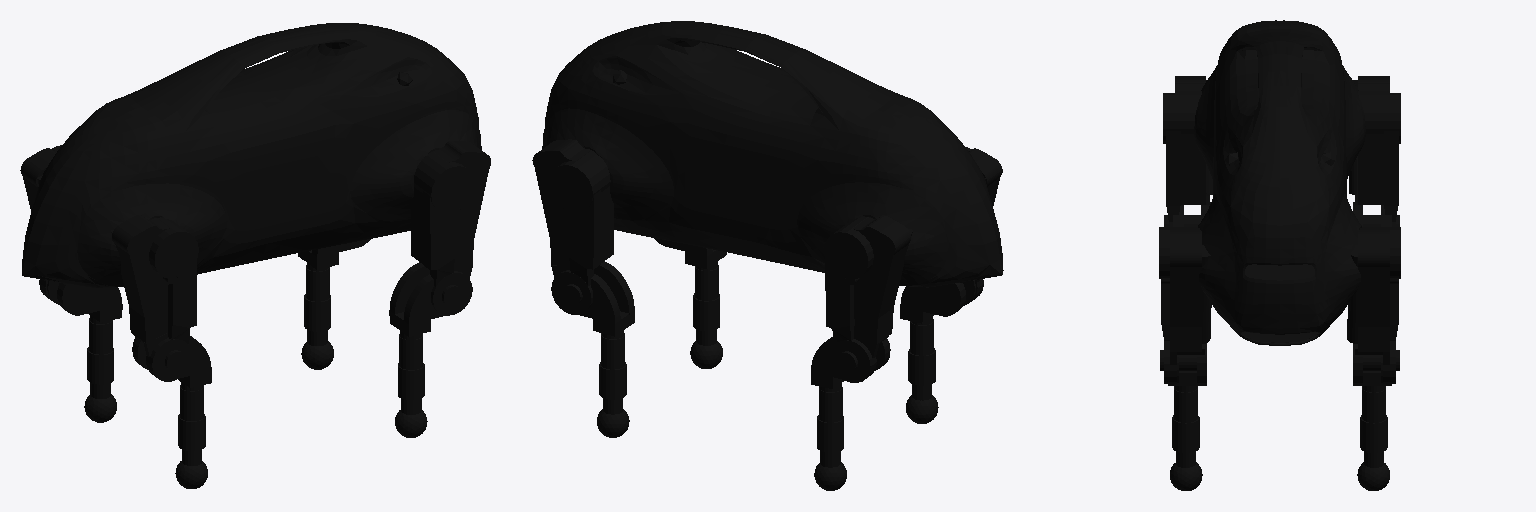
URDF robot description (robot):
<robot xmlns:xsi="http://www.w3.org/2001/XMLSchema-instance"
 xsi:schemaLocation="http://drake.mit.edu drake-distro/drake/doc/drakeURDF.xsd"
 xmlns="http://drake.mit.edu">
  
  <!-- converted from https://svn.csail.mit.edu/littledog/trunk/simulation/little_dog.sd -->

  <link name="body">
    <inertial>
      <mass value="1.800000" />
      <inertia ixx="0.001625" ixy="0" ixz="0" iyy="0.009178" iyz="0" izz="0.008794" />
    </inertial>
    <visual>
      <geometry>
        <mesh filename="meshes/body.obj" scale=".0254 .0254 .0254" />
      </geometry>
      <material name="black">
      	<color rgba="0.1 0.1 0.1 1" />
      </material>
    </visual>
  </link>

  <link name="front_left_hip">
    <inertial>
      <origin xyz="0.000000 0.002900 0.000000" rpy="0 0 0" />
      <mass value="0.062300" />
      <inertia ixx="0.000004" ixy="0" ixz="0" iyy="0.000015" iyz="0" izz="0.000015" />
    </inertial>
    <visual>
      <origin xyz="0 0 0" rpy="0 0 0" />
<!--      <geometry>
        <mesh filename="meshes/front_left_hip.obj" scale=".0254 .0254 .0254"/>
      </geometry>
-->
      <material name="black" />
    </visual>
  </link>

  <joint name="front_left_hip_roll" type="revolute">
    <parent link="body" />
    <child link="front_left_hip" />
    <origin xyz="0.101000 0.036250 0.000000" />
    <axis xyz="1 0 0" />
    <limit lower="-.6" upper=".6"/>
  </joint>
  
  <transmission type="SimpleTransmission">
    <joint name="front_left_hip_roll"/>
    <actuator name="front_left_hip_roll"/>
  </transmission>
  
  <link name="front_left_upper_leg">
    <inertial>
      <origin xyz="0.000000 0.000000 -0.016600" rpy="0 0 0" />
      <mass value="0.127900" />
      <inertia ixx="0.000082" ixy="0" ixz="0" iyy="0.000089" iyz="0" izz="0.000015" />
    </inertial>
    <visual>
      <origin xyz="0 0 0" rpy="0 0 0" />
      <geometry>
        <mesh filename="meshes/front_left_upper.obj" scale=".0254 .0254 .0254"/>
      </geometry>
      <material name="black" />
    </visual>
  </link>
  
  <joint name="front_left_hip_pitch" type="revolute">
    <parent link="front_left_hip" />
    <child link="front_left_upper_leg" />
    <origin xyz="0 0.0236 0" />
    <axis xyz="0 1 0" />
    <limit lower="-3.5" upper="2.4"/>
  </joint>  

  <transmission type="SimpleTransmission">
    <joint name="front_left_hip_pitch"/>
    <actuator name="front_left_hip_pitch"/>
  </transmission>
  
  <link name="front_left_lower_leg"> 
    <inertial>
      <origin xyz="0.000000 0.000000 -0.020200" rpy="0 0 0" />
      <mass value="0.046400" />
      <inertia ixx="0.000038" ixy="0" ixz="0" iyy="0.000035" iyz="0" izz="0.000004" />
    </inertial>
    <visual>
      <origin xyz="0 0 0" rpy="0 0 0" />
      <geometry>
        <mesh filename="meshes/front_left_lower.obj" scale="0.0254 0.0254 0.0254"/>
      </geometry>
      <material name="black" />
    </visual>
    <collision group="left_lower_legs">
      <origin xyz="-0.0265 0 -0.048" /> <!-- note this is approximate -->
      <geometry>
        <capsule radius="0.012" length="0.09" />
      </geometry>
    </collision>
    <collision group="feet">
      <origin xyz="-0.0265 0 -0.0985"/>
      <geometry>
        <sphere radius="0.0103"/>
      </geometry>
    </collision>
  </link>
  
  <joint name="front_left_knee" type="revolute">
    <parent link="front_left_upper_leg" />
    <child link="front_left_lower_leg" />
    <origin xyz="0 0 -0.0751" />
    <axis xyz="0 1 0" />
    <limit lower="-3.1" upper="1.0"/>
  </joint>

  <transmission type="SimpleTransmission">
    <joint name="front_left_knee"/>
    <actuator name="front_left_knee"/>
  </transmission>

  <frame link="front_left_lower_leg" name="front_left_foot_center" xyz="-0.0265 0 -0.0985"/>

  <link name="front_right_hip">
    <inertial>
      <origin xyz="0.000000 -0.002900 0.000000" rpy="0 0 0" />
      <mass value="0.062300" />
      <inertia ixx="0.000004" ixy="0" ixz="0" iyy="0.000015" iyz="0" izz="0.000015" />
    </inertial>
    <visual>
      <origin xyz="0 0 0" rpy="0 0 0" />
<!--      <geometry>
        <mesh filename="meshes/front_right_hip.obj" scale="0.0254 0.0254 0.0254"/>
      </geometry> -->
      <material name="black" />
    </visual>
  </link>

  <joint name="front_right_hip_roll" type="revolute">
    <parent link="body" />
    <child link="front_right_hip" />
    <origin xyz="0.101000 -0.036250 0.000000" />
    <axis xyz="1 0 0" />
    <limit lower="-.6" upper=".6"/>
  </joint>
  
  <transmission type="SimpleTransmission">
    <joint name="front_right_hip_roll"/>
    <actuator name="front_right_hip_roll"/>
  </transmission>

  <link name="front_right_upper_leg">
    <inertial>
      <origin xyz="0.000000 0.000000 -0.016600" rpy="0 0 0" />
      <mass value="0.127900" />
      <inertia ixx="0.000082" ixy="0" ixz="0" iyy="0.000089" iyz="0" izz="0.000015" />
    </inertial>
    <visual>
      <origin xyz="0 0 0" rpy="0 0 0" />
      <geometry>
        <mesh filename="meshes/front_right_upper.obj" scale="0.0254 0.0254 0.0254"/>
      </geometry>
      <material name="black"/>
    </visual>
  </link>

  <joint name="front_right_hip_pitch" type="revolute">
    <parent link="front_right_hip" />
    <child link="front_right_upper_leg" />
    <origin xyz="0 -0.0236 0" />
    <axis xyz="0 1 0" />
    <limit lower="-3.5" upper="2.4"/>
  </joint>
  
  <transmission type="SimpleTransmission">
    <joint name="front_right_hip_pitch"/>
    <actuator name="front_right_hip_pitch"/>
  </transmission>
  
  <link name="front_right_lower_leg"> 
    <inertial>
      <origin xyz="0.000000 0.000000 -0.020200" rpy="0 0 0" />
      <mass value="0.046400" />
      <inertia ixx="0.000038" ixy="0" ixz="0" iyy="0.000035" iyz="0" izz="0.000004" />
    </inertial>
    <visual>
      <origin xyz="0 0 0" rpy="0 0 0" />
      <geometry>
        <mesh filename="meshes/front_right_lower.obj" scale="0.0254 0.0254 0.0254"/>
      </geometry>
      <material name="black"/>
    </visual>
    <collision group="right_lower_legs">
      <origin xyz="-0.0265 0 -0.048" /> <!-- note this is approximate -->
      <geometry>
        <capsule radius="0.012" length="0.09" />
      </geometry>
    </collision>
    <collision group="feet">
      <origin xyz="-0.0265 0 -0.0985"/>
      <geometry>
        <sphere radius="0.0103"/>
      </geometry>
    </collision>
  </link>

  <joint name="front_right_knee" type="revolute">
    <parent link="front_right_upper_leg" />
    <child link="front_right_lower_leg" />
    <origin xyz="0 0 -0.0751" />
    <axis xyz="0 1 0" />
    <limit lower="-3.1" upper="1.0"/>
  </joint>
  
  <transmission type="SimpleTransmission">
    <joint name="front_right_knee"/>
    <actuator name="front_right_knee"/>
  </transmission>
  
  <frame link="front_right_lower_leg" name="front_right_foot_center" xyz="-0.0265 0 -0.0985"/>
  
  <link name="back_left_hip">
    <inertial>
      <origin xyz="0.000000 0.002900 0.000000" rpy="0 0 0" />
      <mass value="0.062300" />
      <inertia ixx="0.000004" ixy="0" ixz="0" iyy="0.000015" iyz="0" izz="0.000015" />
    </inertial>
    <visual>
      <origin xyz="0 0 0" rpy="0 0 0" />
<!--      <geometry>
        <mesh filename="meshes/back_left_hip.obj" scale="0.0254 0.0254 0.0254"/>
      </geometry>      -->
      <material name="black" />
    </visual>
  </link>

  <joint name="back_left_hip_roll" type="revolute">
    <parent link="body" />
    <child link="back_left_hip" />
    <origin xyz="-0.101000 0.036250 0.000000" />
    <axis xyz="1 0 0" />
    <limit lower="-.6" upper=".6"/>
  </joint>
  
  <transmission type="SimpleTransmission">
    <joint name="back_left_hip_roll"/>
    <actuator name="back_left_hip_roll"/>
  </transmission>
  
  <link name="back_left_upper_leg">
    <inertial>
      <origin xyz="0.000000 0.000000 -0.016600" rpy="0 0 0" />
      <mass value="0.127900" />
      <inertia ixx="0.000082" ixy="0" ixz="0" iyy="0.000089" iyz="0" izz="0.000015" />
    </inertial>
    <visual>
      <origin xyz="0 0 0" rpy="0 0 0" />
      <geometry>
        <mesh filename="meshes/back_left_upper.obj" scale="0.0254 0.0254 0.0254"/>
      </geometry>
      <material name="black" />
    </visual>
  </link>

  <joint name="back_left_hip_pitch" type="revolute">
    <parent link="back_left_hip" />
    <child link="back_left_upper_leg" />
    <origin xyz="0 0.0236 0" />
    <axis xyz="0 1 0" />
    <limit lower="-2.4" upper="3.5"/>
  </joint>
  
  <transmission type="SimpleTransmission">
    <joint name="back_left_hip_pitch"/>
    <actuator name="back_left_hip_pitch"/>
  </transmission>
  
  <link name="back_left_lower_leg"> 
    <inertial>
      <origin xyz="0.000000 0.000000 -0.020200" rpy="0 0 0" />
      <mass value="0.046400" />
      <inertia ixx="0.000038" ixy="0" ixz="0" iyy="0.000035" iyz="0" izz="0.000004" />
    </inertial>
    <visual>
      <origin xyz="0 0 0" rpy="0 0 0" />
      <geometry>
        <mesh filename="meshes/back_left_lower.obj" scale="0.0254 0.0254 0.0254"/>
      </geometry>
      <material name="black" />
    </visual>
    <collision group="left_lower_legs">
      <origin xyz="0.0265 0 -0.048" /> <!-- note this is approximate -->
      <geometry>
        <capsule radius="0.012" length="0.09" />
      </geometry>
    </collision>
    <collision group="feet">
      <origin xyz="0.0265 0 -0.0985"/>
      <geometry>
        <sphere radius="0.0103"/>
      </geometry>
    </collision>
  </link>

  <joint name="back_left_knee" type="revolute">
    <parent link="back_left_upper_leg" />
    <child link="back_left_lower_leg" />
    <origin xyz="0 0 -0.0751" />
    <axis xyz="0 1 0" />
    <limit lower="-1.0" upper="3.1"/>
  </joint>

  <transmission type="SimpleTransmission">
    <joint name="back_left_knee"/>
    <actuator name="back_left_knee"/>
  </transmission>
  
  <frame link="back_left_lower_leg" name="back_left_foot_center" xyz="0.0265 0 -0.0985"/>
  
  <link name="back_right_hip">
    <inertial>
      <origin xyz="0.000000 -0.002900 0.000000" rpy="0 0 0" />
      <mass value="0.062300" />
      <inertia ixx="0.000004" ixy="0" ixz="0" iyy="0.000015" iyz="0" izz="0.000015" />
    </inertial>
    <visual>
      <origin xyz="0 0 0" rpy="0 0 0" />
<!--      <geometry>
        <mesh filename="meshes/back_right_hip.obj" scale="0.0254 0.0254 0.0254"/>
      </geometry>-->
      <material name="black" />
    </visual>
  </link>

  <joint name="back_right_hip_roll" type="revolute">
    <parent link="body" />
    <child link="back_right_hip" />
    <origin xyz="-0.101000 -0.036250 0.000000" />
    <axis xyz="1 0 0" />
    <limit lower="-.6" upper=".6"/>
  </joint>
  
  <transmission type="SimpleTransmission">
    <joint name="back_right_hip_roll"/>
    <actuator name="back_right_hip_roll"/>
  </transmission>
  
  <link name="back_right_upper_leg">
    <inertial>
      <origin xyz="0.000000 0.000000 -0.016600" rpy="0 0 0" />
      <mass value="0.127900" />
      <inertia ixx="0.000082" ixy="0" ixz="0" iyy="0.000089" iyz="0" izz="0.000015" />
    </inertial>
    <visual>
      <origin xyz="0 0 0" rpy="0 0 0" />
      <geometry>
        <mesh filename="meshes/back_right_upper.obj" scale="0.0254 0.0254 0.0254"/>
      </geometry>
      <material name="black" />
    </visual>
  </link>

  <joint name="back_right_hip_pitch" type="revolute">
    <parent link="back_right_hip" />
    <child link="back_right_upper_leg" />
    <origin xyz="0 -0.0207 0" />
    <axis xyz="0 1 0" />
    <limit lower="-2.4" upper="3.5"/>
  </joint>
  
  <transmission type="SimpleTransmission">
    <joint name="back_right_hip_pitch"/>
    <actuator name="back_right_hip_pitch"/>
  </transmission>
  
  <link name="back_right_lower_leg"> 
    <inertial>
      <origin xyz="0.000000 0.000000 -0.020200" rpy="0 0 0" />
      <mass value="0.046400" />
      <inertia ixx="0.000038" ixy="0" ixz="0" iyy="0.000035" iyz="0" izz="0.000004" />
    </inertial>
    <visual>
      <origin xyz="0 0 0" rpy="0 0 0" />
      <geometry>
        <mesh filename="meshes/back_right_lower.obj" scale="0.0254 0.0254 0.0254"/>
      </geometry>
      <material name="black" />
    </visual>
    <collision group="right_lower_legs">
      <origin xyz="0.0265 0 -0.048" /> <!-- note this is approximate -->
      <geometry>
        <capsule radius="0.012" length="0.09" />
      </geometry>
    </collision>
    <collision group="feet">
      <origin xyz="0.0265 0 -0.0985"/>
      <geometry>
        <sphere radius="0.0103"/>
      </geometry>
    </collision>
  </link>

  <joint name="back_right_knee" type="revolute">
    <parent link="back_right_upper_leg" />
    <child link="back_right_lower_leg" />
    <origin xyz="0 0 -0.0751" />
    <axis xyz="0 1 0" />
    <limit lower="-1.0" upper="3.1"/>
  </joint>

  <transmission type="SimpleTransmission">
    <joint name="back_right_knee"/>
    <actuator name="back_right_knee"/>
  </transmission>
  
  <frame link="back_right_lower_leg" name="back_right_foot_center" xyz="0.0265 0 -0.0985"/>
  
</robot>

--- Render facts (derived) ---
Views: 3 orthographic renders of the robot side by side, from view 1: azimuth 30°, elevation 25°; view 2: azimuth 150°, elevation 25°; view 3: azimuth 270°, elevation 25°.
Model robot with 13 links and 12 joints (12 revolute), rooted at body, posed every joint at zero.
Visible links, largest first — view 1: body, back_right_upper_leg, front_right_upper_leg, front_right_lower_leg, back_left_lower_leg, back_right_lower_leg, front_left_lower_leg, back_left_upper_leg; view 2: body, back_left_upper_leg, front_left_upper_leg, front_left_lower_leg, back_right_lower_leg, back_left_lower_leg, front_right_lower_leg, back_right_upper_leg; view 3: body, front_left_upper_leg, front_right_upper_leg, back_left_upper_leg, back_right_upper_leg, front_right_lower_leg, front_left_lower_leg, back_left_lower_leg.
Boxes of the visible links, x1,y1,x2,y2 form: body: (22,23,481,287); back_right_upper_leg: (111,215,198,381); front_right_upper_leg: (411,141,490,315); front_right_lower_leg: (389,262,461,437); back_left_lower_leg: (47,281,122,422); back_right_lower_leg: (132,336,211,488); front_left_lower_leg: (298,239,370,369); back_left_upper_leg: (20,145,61,302); body: (542,21,1003,287); back_left_upper_leg: (824,215,912,382); front_left_upper_leg: (532,139,613,314); front_left_lower_leg: (562,261,634,437); back_right_lower_leg: (900,280,975,423); back_left_lower_leg: (811,337,890,490); front_right_lower_leg: (654,238,726,368); back_right_upper_leg: (960,147,1002,303); body: (1194,20,1365,345); front_left_upper_leg: (1347,227,1400,383); front_right_upper_leg: (1159,227,1211,383); back_left_upper_leg: (1349,76,1400,226); back_right_upper_leg: (1163,76,1212,226); front_right_lower_leg: (1160,341,1206,490); front_left_lower_leg: (1353,341,1399,490); back_left_lower_leg: (1353,202,1399,226).
Bounding box of the posed robot: 0.3304 × 0.1535 × 0.2722 m (x, y, z).
Meshes: 9 distinct files referenced, 9 mesh visuals loaded (9 OBJ).